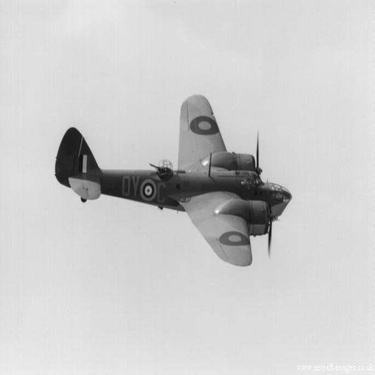airplane: (36, 81, 295, 274)
